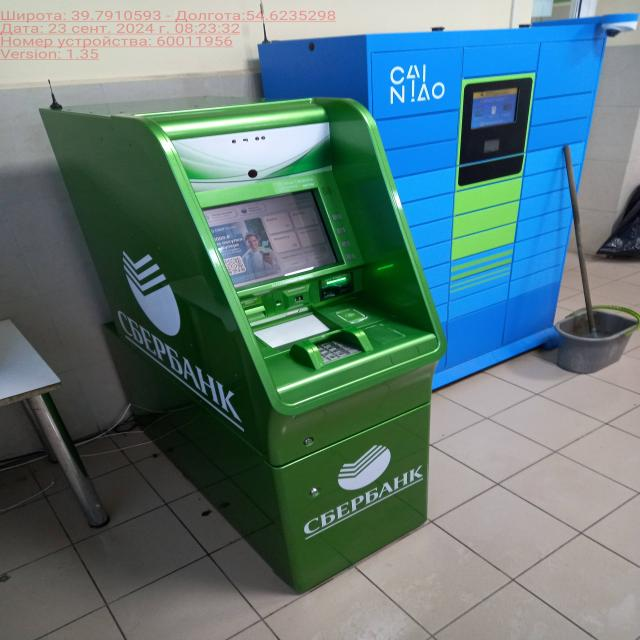bank: (37, 95, 445, 596)
